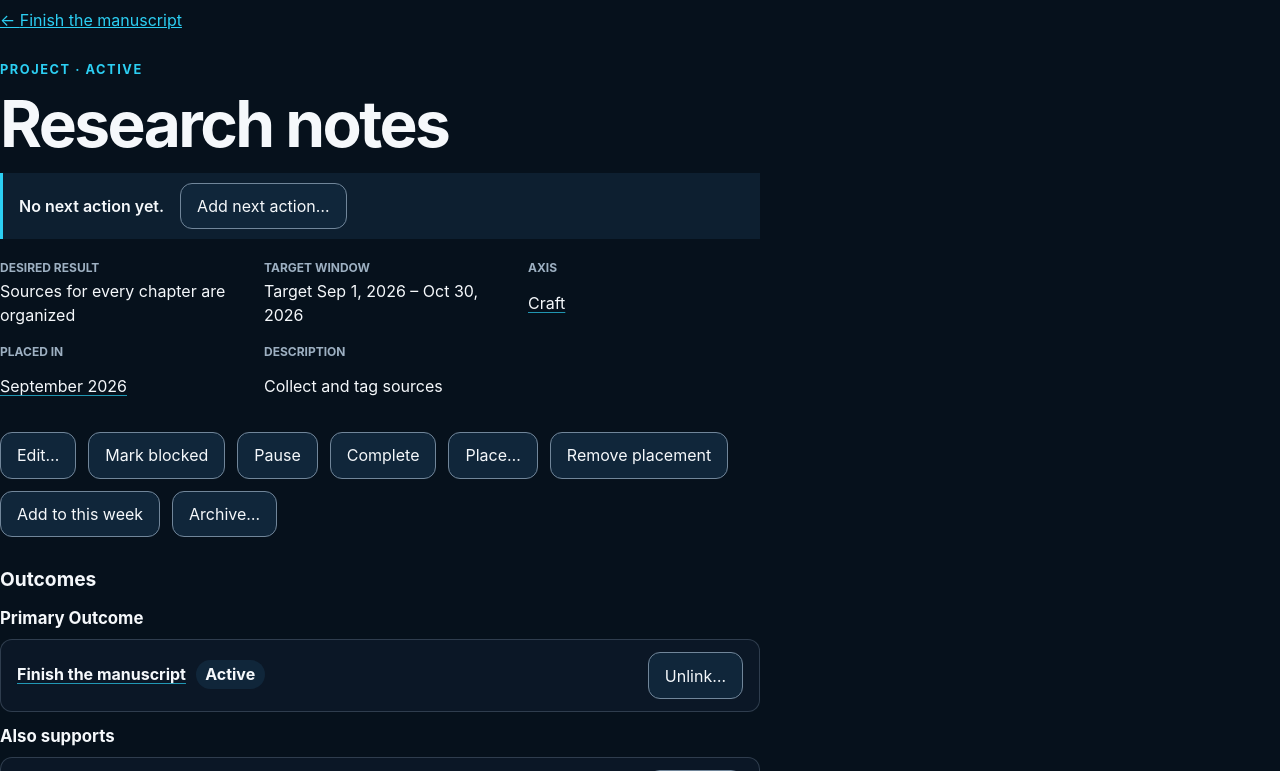
Test case: Project detail page › adds a next action by capture with this Project and offers no planning undo
The width and height of the screenshot is (1280, 771).
Click the button "Add next action…".
click(263, 206)  # box top-left (180, 183), bottom-right (347, 230)
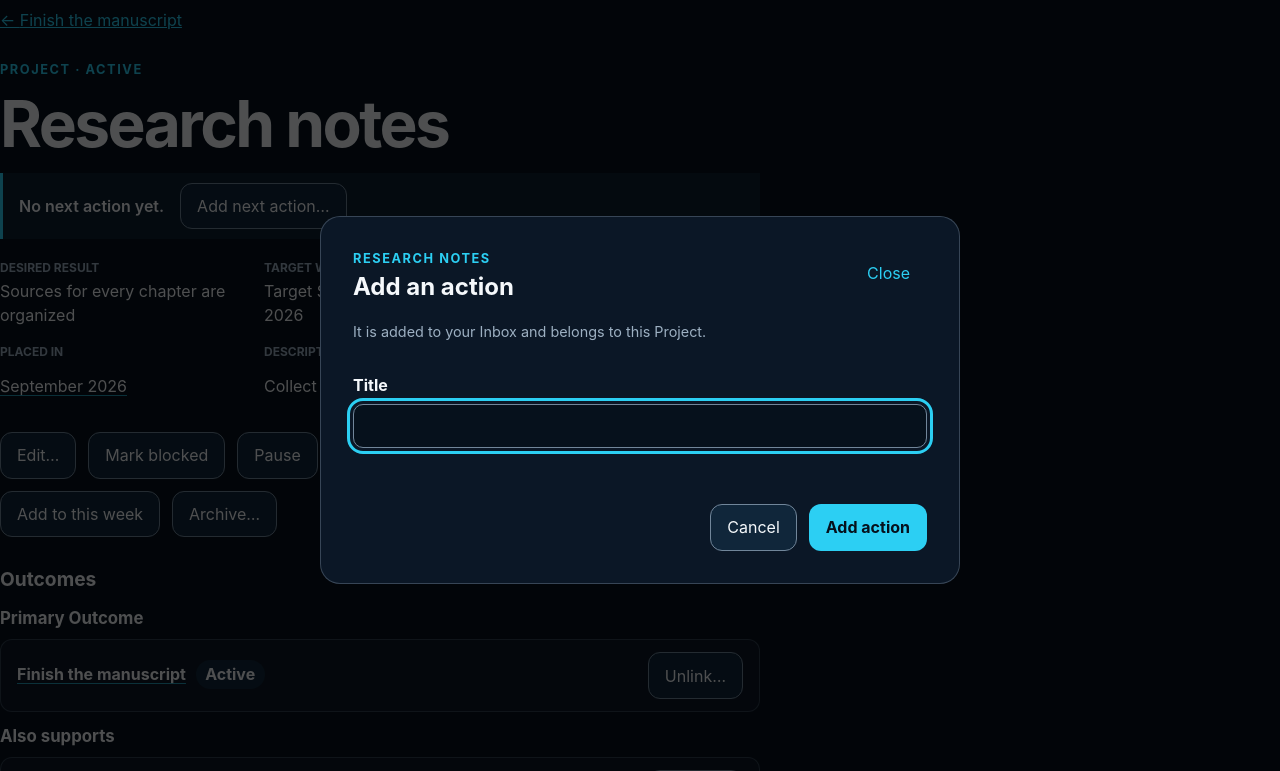
Click the button "Add action".
click(868, 527)  # box top-left (809, 504), bottom-right (927, 551)
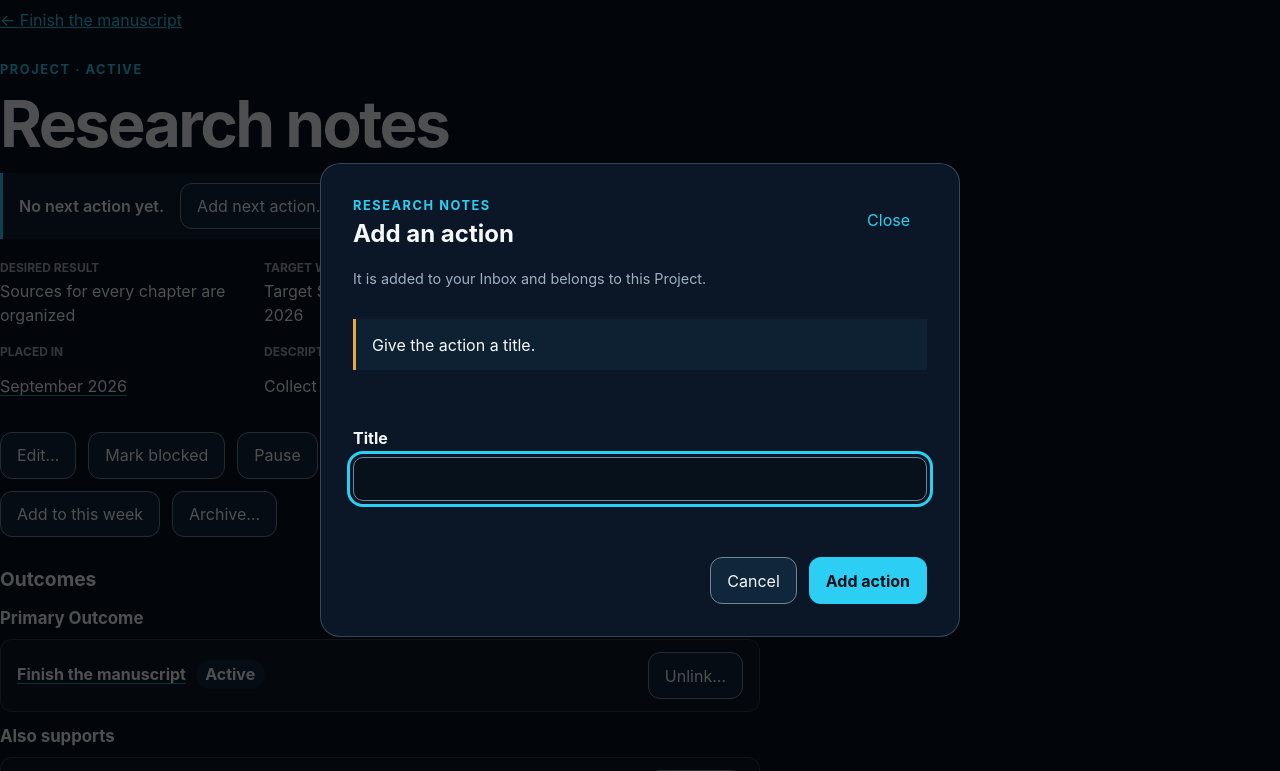
Now the message reads "Give the action a title.", box top-left (372, 335), bottom-right (535, 355)
Type "Email the archivist" into the field labelled "Title".
click(640, 479); type("Email the archivist")  # box top-left (353, 457), bottom-right (927, 501)
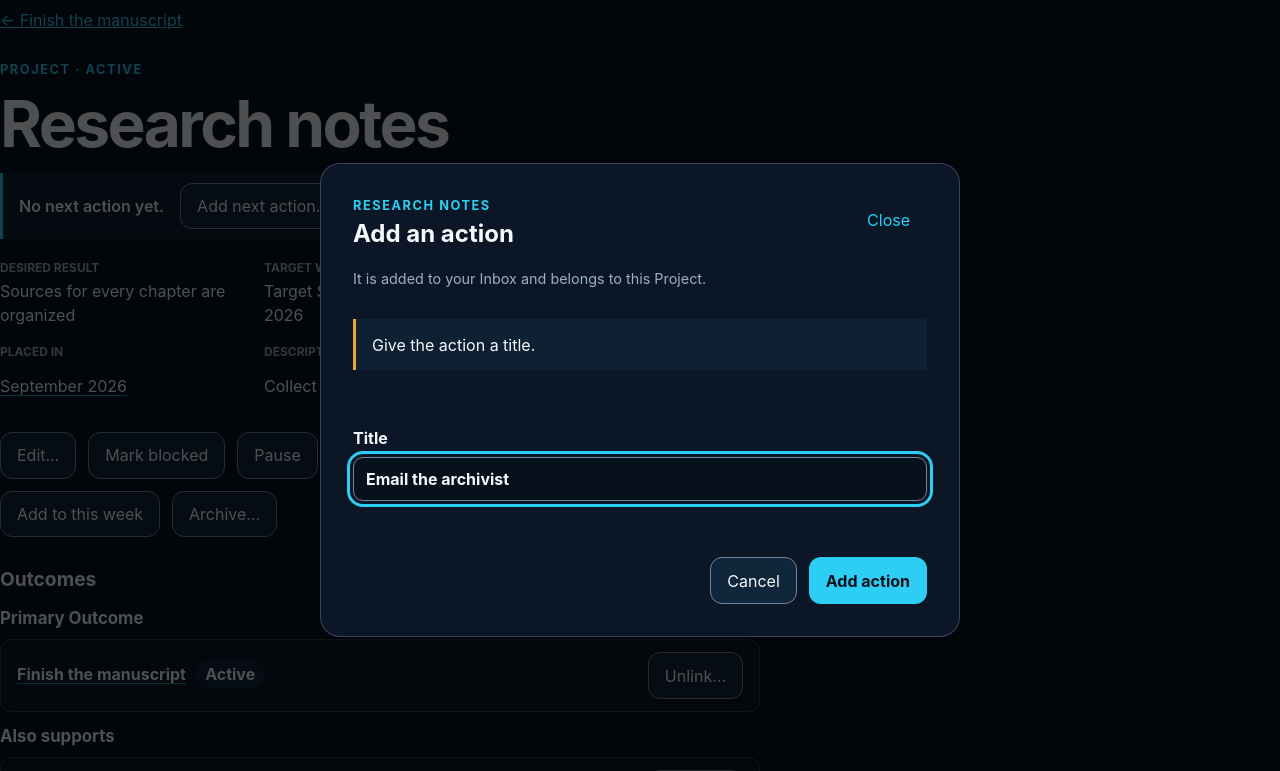
Click the button "Add action".
click(868, 581)  # box top-left (809, 557), bottom-right (927, 604)
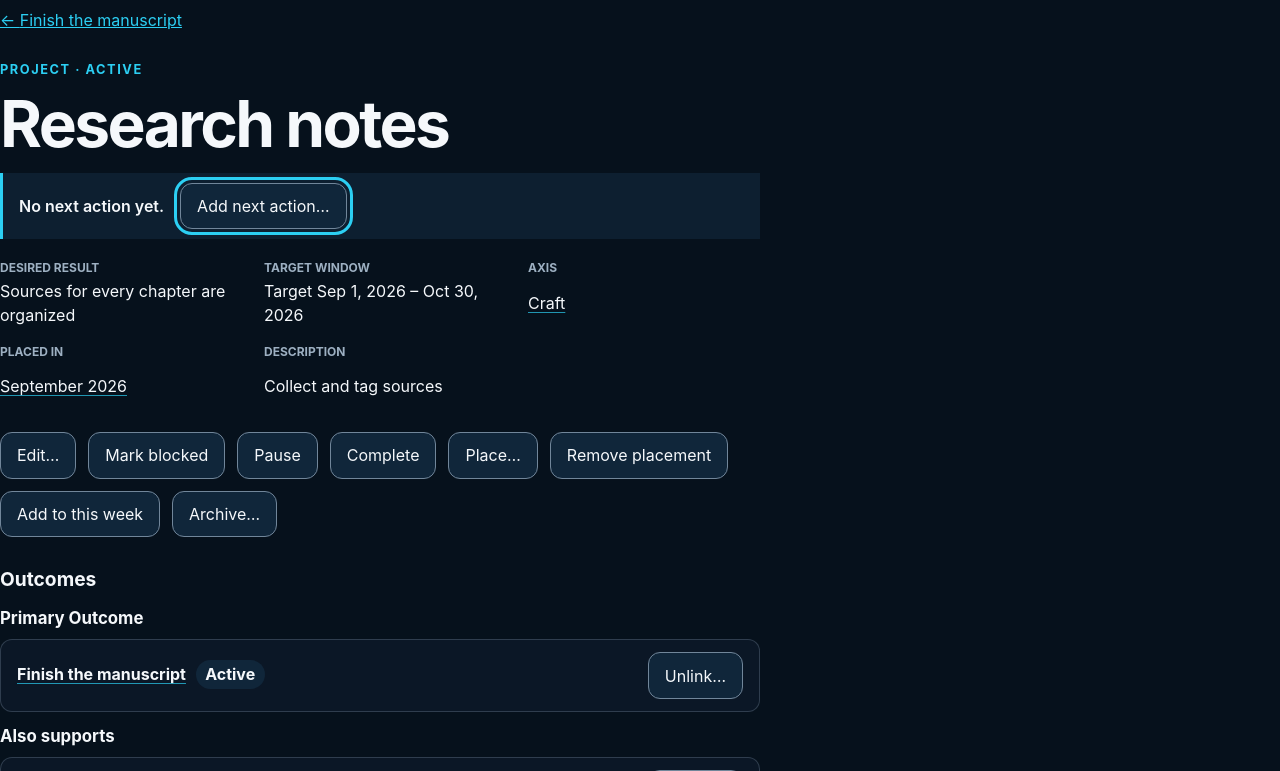
Now the dialog is gone
